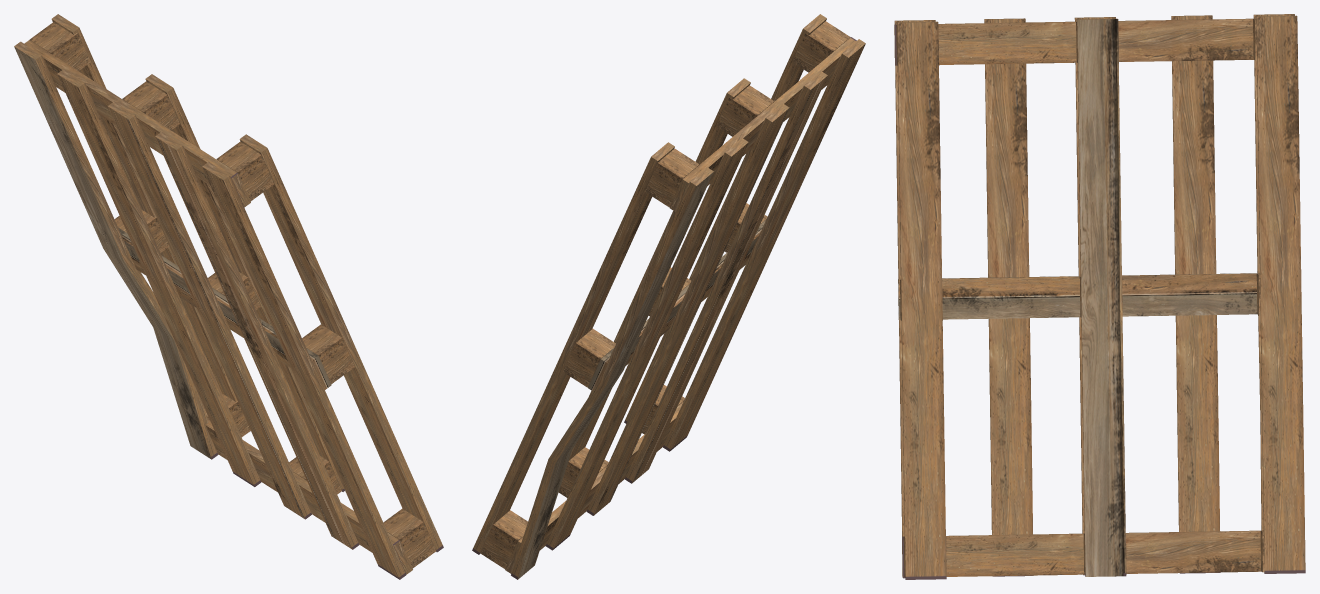
File: FlatShack252.gltf
The picture shows the model from 3 angles, left to right: view 1: azimuth 30°, elevation 25°; view 2: azimuth 150°, elevation 25°; view 3: azimuth 270°, elevation 25°; orthographic projection. The views are drawn at different scales.
Visible parts, largest first — view 1: prop_Log_geo_097_bark_log_01_tx_0; view 2: prop_Log_geo_097_bark_log_01_tx_0; view 3: prop_Log_geo_097_bark_log_01_tx_0.
Boxes of the visible parts, <box> form: prop_Log_geo_097_bark_log_01_tx_0: <box>14,14,443,579</box>; prop_Log_geo_097_bark_log_01_tx_0: <box>472,14,865,579</box>; prop_Log_geo_097_bark_log_01_tx_0: <box>894,14,1305,579</box>.
Size of the model in its own units: 0.6268 by 1.15 by 0.8797.
1 material, 1 textured.
